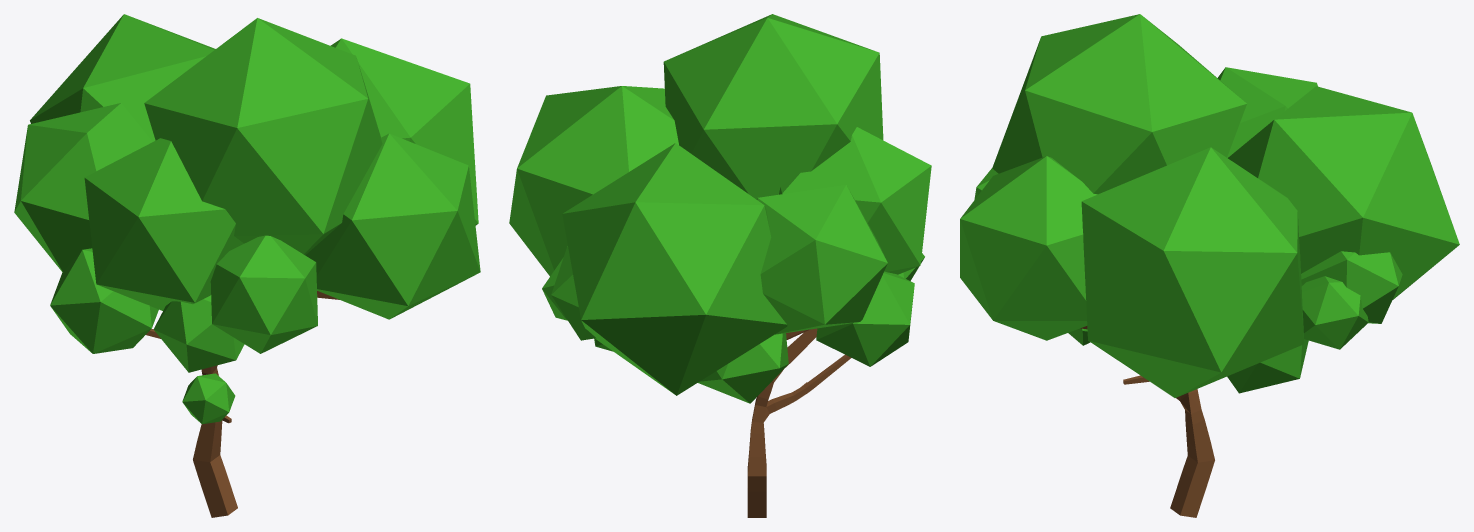
Rendered from AppleTree.fbx.
3 renders of one model, left to right at view 1: azimuth 30°, elevation 25°; view 2: azimuth 150°, elevation 25°; view 3: azimuth 270°, elevation 25°, orthographic. The views are drawn at different scales.
Parts seen in each view (by area): view 1: Icosphere.002, Icosphere.001, Icosphere, Icosphere.007, Icosphere.006, Icosphere.009, Icosphere.008, Icosphere.010, Icosphere.005, Cube, Icosphere.011; view 2: Icosphere.009, Icosphere.002, Icosphere.008, Icosphere.007, Icosphere, Icosphere.010, Cube, Icosphere.012, Icosphere.003, Icosphere.004; view 3: Icosphere.008, Icosphere.002, Icosphere.009, Icosphere.001, Icosphere.003, Icosphere.007, Icosphere.004, Cube, Icosphere.013.
Part boxes in pixels (x1,y1,x2,y2): Icosphere.002: [144, 18, 382, 255]; Icosphere.001: [306, 133, 480, 319]; Icosphere: [84, 138, 243, 310]; Icosphere.007: [14, 103, 152, 272]; Icosphere.006: [210, 235, 317, 353]; Icosphere.009: [30, 14, 215, 141]; Icosphere.008: [330, 38, 478, 225]; Icosphere.010: [50, 248, 158, 353]; Icosphere.005: [153, 295, 244, 372]; Cube: [146, 291, 339, 517]; Icosphere.011: [182, 373, 235, 424]; Icosphere.009: [562, 143, 787, 395]; Icosphere.002: [663, 14, 883, 199]; Icosphere.008: [509, 86, 678, 276]; Icosphere.007: [757, 185, 887, 334]; Icosphere: [779, 127, 931, 274]; Icosphere.010: [816, 271, 914, 366]; Cube: [747, 328, 851, 517]; Icosphere.012: [698, 333, 788, 403]; Icosphere.003: [551, 246, 596, 340]; Icosphere.004: [542, 257, 567, 320]; Icosphere.008: [1081, 147, 1304, 397]; Icosphere.002: [992, 14, 1246, 194]; Icosphere.009: [1228, 86, 1459, 299]; Icosphere.001: [960, 156, 1097, 340]; Icosphere.003: [1301, 251, 1402, 323]; Icosphere.007: [1218, 67, 1317, 157]; Icosphere.004: [1301, 276, 1368, 349]; Cube: [1080, 326, 1214, 517]; Icosphere.013: [1227, 339, 1308, 393].
Size of the model in its own units: 2070 by 2424 by 2164.
